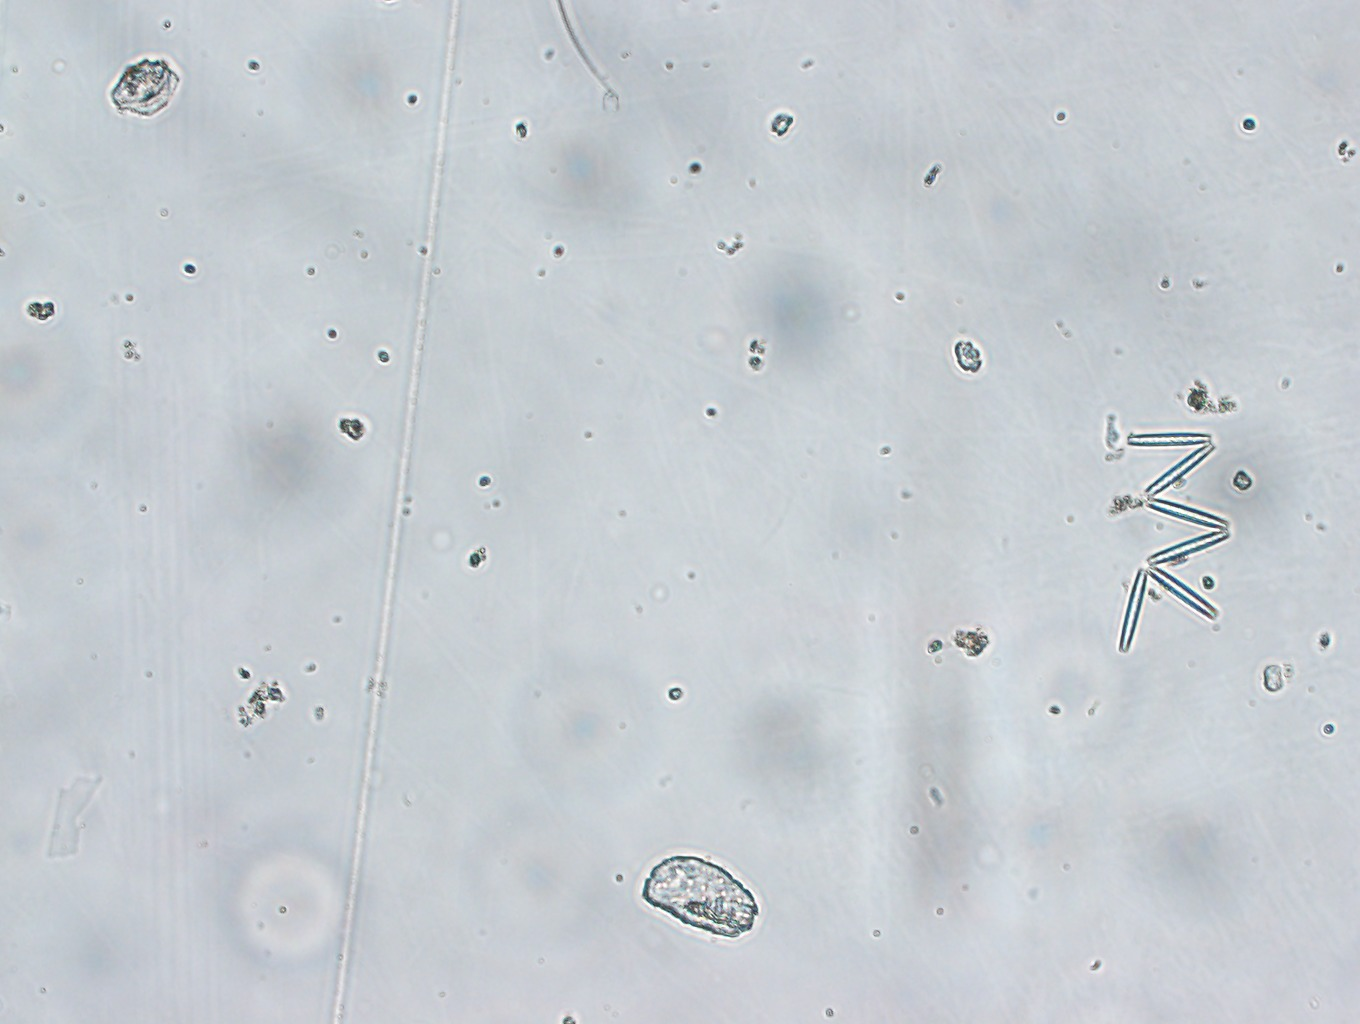thalassionema nitzschioides: (1114, 419, 1233, 655)
